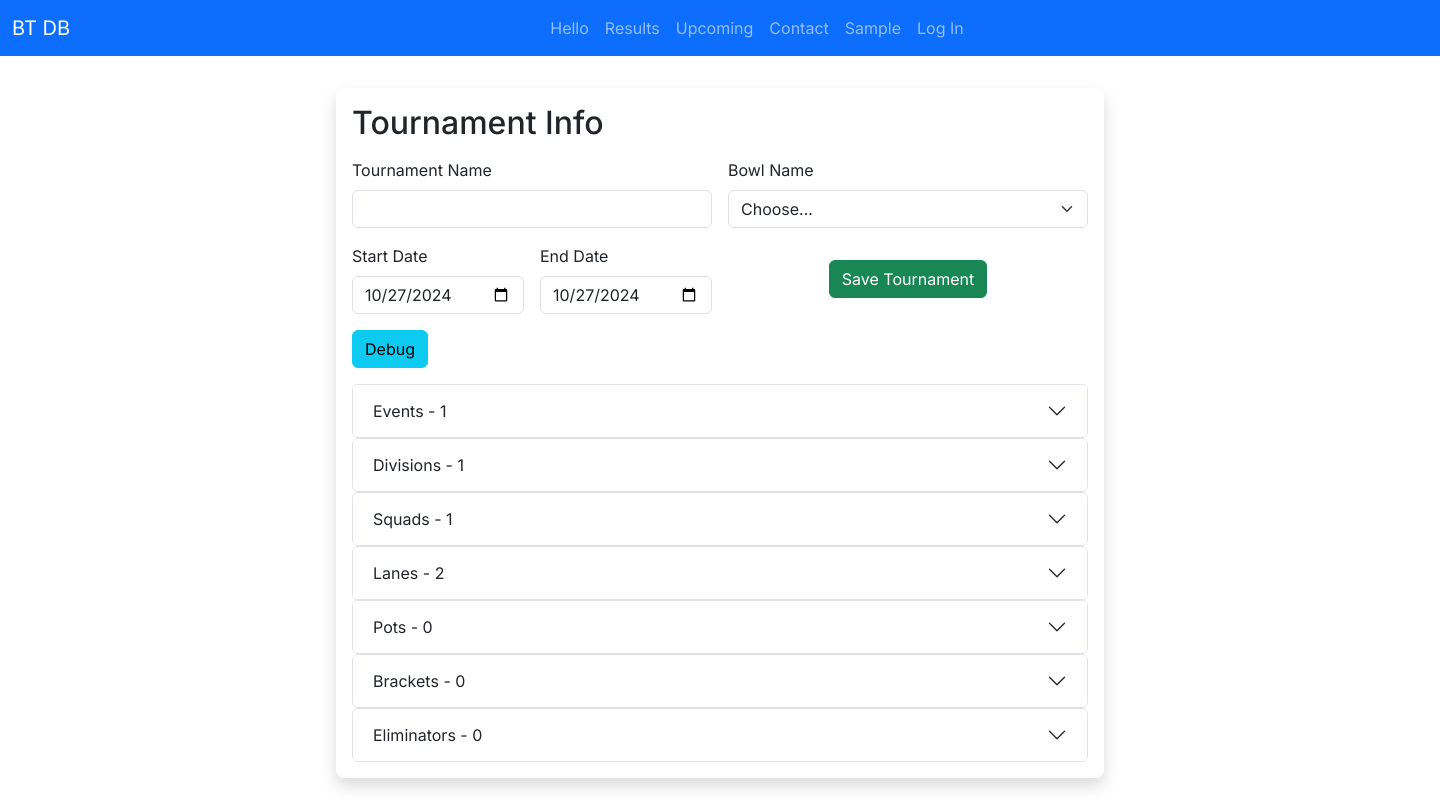
Test: TmntDataPage - Eliminators Component › click on the eliminators accordian › render the create eliminators tab
Click the button "Eliminators - 0" at (423, 735), box left=353, top=709, right=1087, bottom=761
(page scrolled)
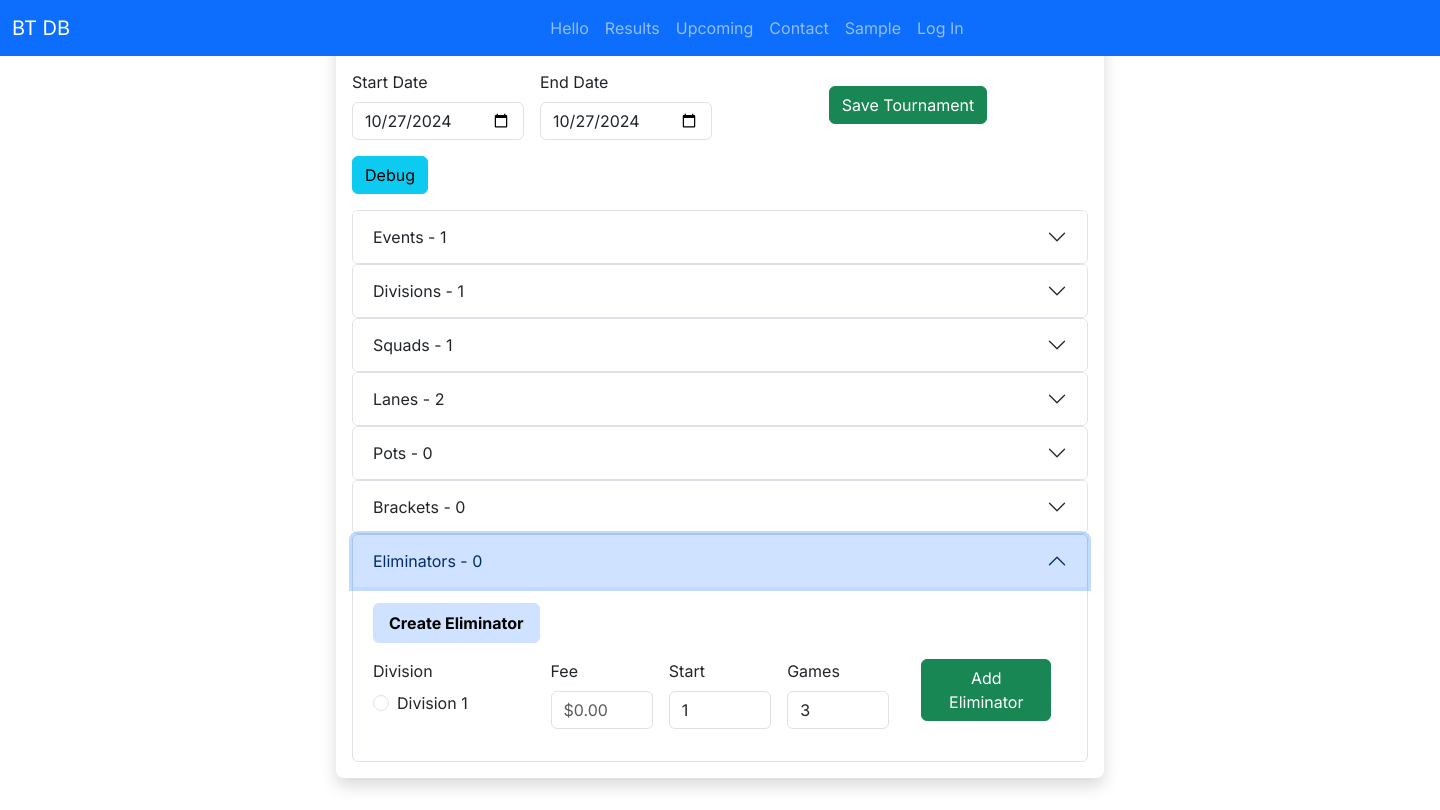
expect the tab "Create Eliminator" is shown: met, box left=373, top=603, right=540, bottom=643
